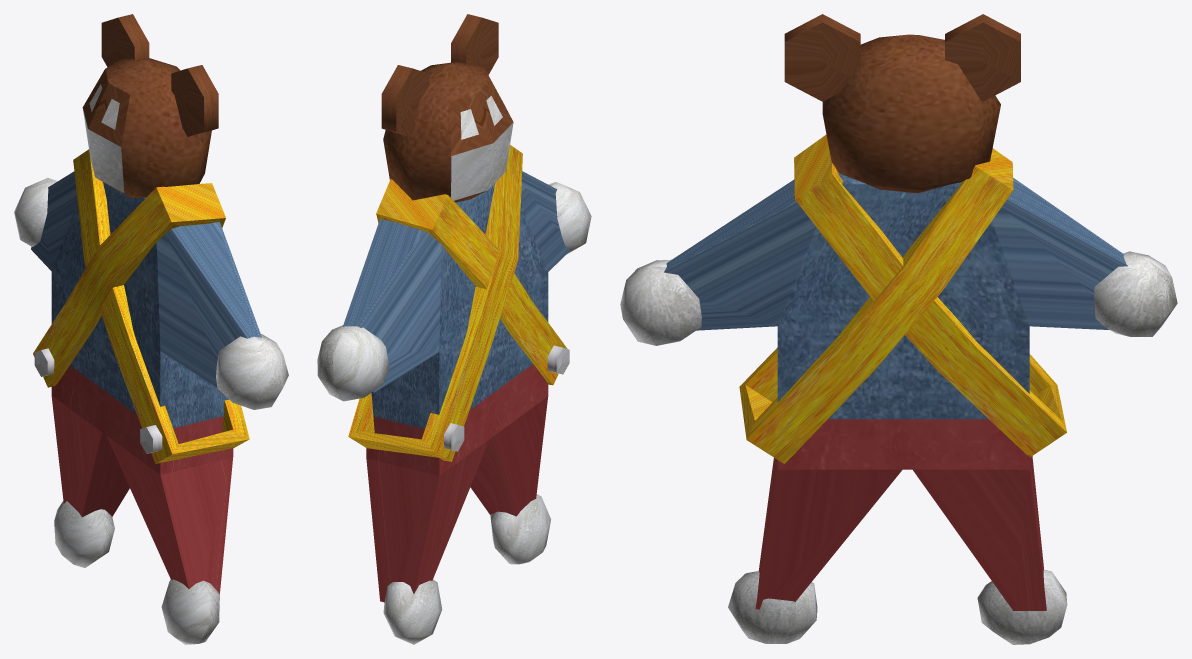
The model's file is fapfap.FBX.
3 renders of one model, left to right at view 1: azimuth 30°, elevation 25°; view 2: azimuth 150°, elevation 25°; view 3: azimuth 270°, elevation 25°, orthographic. The views are drawn at different scales.
Parts seen in each view (by area): view 1: Box001, Object003, Object002, Sphere001, Sphere003, Sphere004, Sphere005, Cylinder002, Object001, Cylinder001, Sphere002, Cylinder004 (+1 smaller); view 2: Box001, Object003, Object002, Sphere001, Sphere002, Object001, Sphere005, Sphere004, Cylinder001, Cylinder002, Sphere003, Cylinder004 (+1 smaller); view 3: Box001, Object002, Object003, Sphere001, Sphere002, Sphere003, Cylinder002, Cylinder001, Sphere004, Sphere005.
Part boxes in pixels (x1,y1,x2,y2): Box001: (31, 171, 261, 428); Object003: (51, 365, 233, 594); Object002: (33, 149, 249, 463); Sphere001: (82, 58, 211, 198); Sphere003: (216, 334, 288, 409); Sphere004: (161, 579, 219, 644); Sphere005: (54, 501, 114, 567); Cylinder002: (171, 65, 218, 136); Object001: (82, 84, 124, 192); Cylinder001: (101, 14, 149, 67); Sphere002: (14, 178, 57, 246); Cylinder004: (140, 425, 162, 453); Box001: (343, 171, 570, 428); Object003: (366, 364, 548, 602); Object002: (348, 144, 567, 461); Sphere001: (383, 62, 513, 202); Sphere002: (317, 325, 389, 401); Object001: (451, 96, 513, 200); Sphere005: (383, 579, 442, 644); Sphere004: (490, 494, 550, 564); Cylinder001: (381, 65, 429, 136); Cylinder002: (451, 14, 498, 74); Sphere003: (548, 182, 591, 254); Cylinder004: (547, 345, 569, 374); Box001: (664, 173, 1127, 419); Object002: (739, 134, 1066, 463); Object003: (755, 419, 1046, 610); Sphere001: (822, 34, 1000, 193); Sphere002: (1094, 251, 1177, 336); Sphere003: (620, 259, 701, 345); Cylinder002: (784, 14, 860, 101); Cylinder001: (945, 14, 1020, 101); Sphere004: (728, 571, 817, 643); Sphere005: (977, 569, 1067, 644).
Bounding box in the file's own units: 9.64 × 46.35 × 36.51.
Materials: 6 (6 with a texture image).
